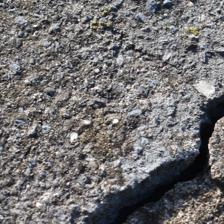Crack: (42, 48, 181, 173)
